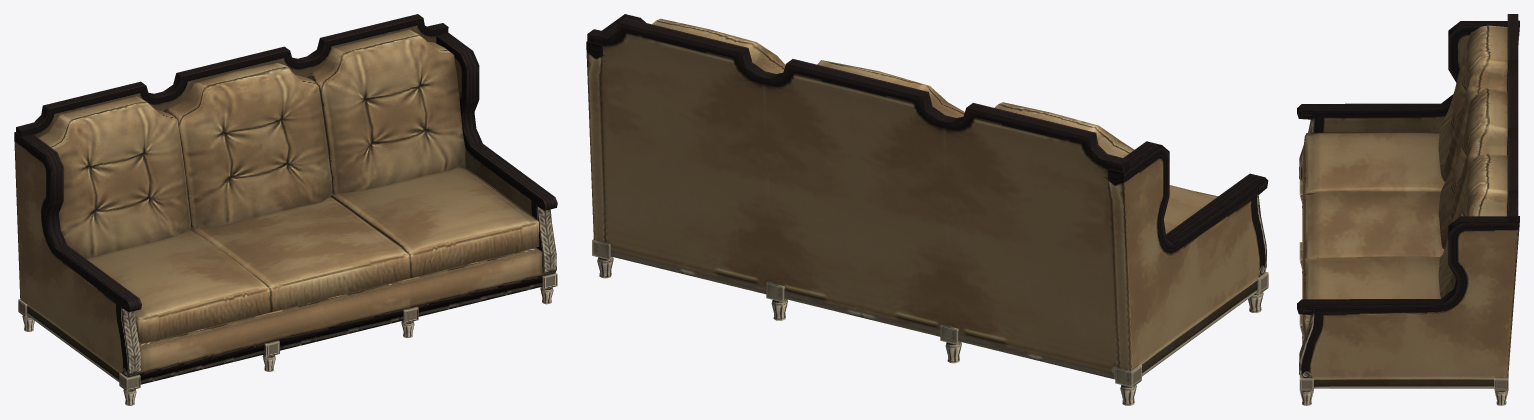
Rendered from Sofa02.FBX.
3 views of the same model, side by side, from view 1: azimuth 30°, elevation 25°; view 2: azimuth 150°, elevation 25°; view 3: azimuth 270°, elevation 25° (orthographic). The views are drawn at different scales.
Visible parts, largest first — view 1: Sofa02; view 2: Sofa02; view 3: Sofa02.
Part boxes in pixels (x1,y1,x2,y2): Sofa02: (14, 14, 557, 405); Sofa02: (586, 14, 1268, 405); Sofa02: (1297, 14, 1519, 405).
Size of the model in its own units: 309 by 146 by 144.
